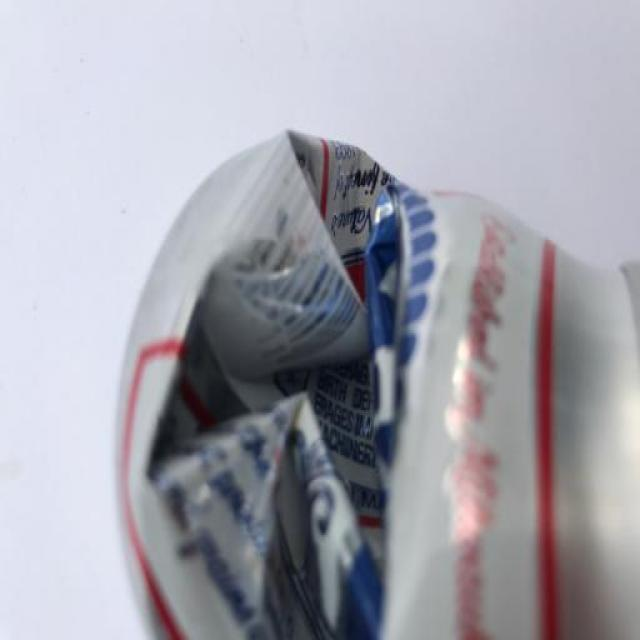metel: (97, 111, 640, 640)
